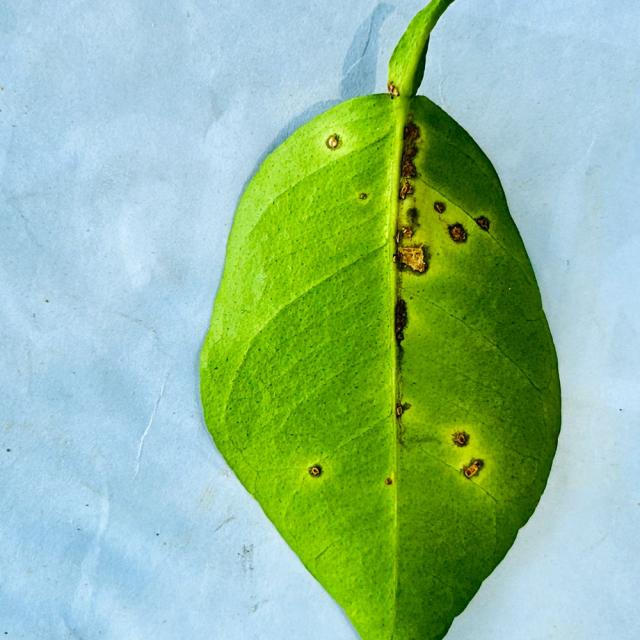Anthracnose: (292, 405, 390, 471), (377, 220, 435, 278), (451, 450, 509, 502), (491, 340, 548, 392), (416, 296, 476, 332), (471, 215, 507, 249), (298, 450, 336, 482), (510, 450, 543, 466), (227, 435, 247, 461), (314, 544, 332, 562)
Lemon: (198, 0, 563, 639)
